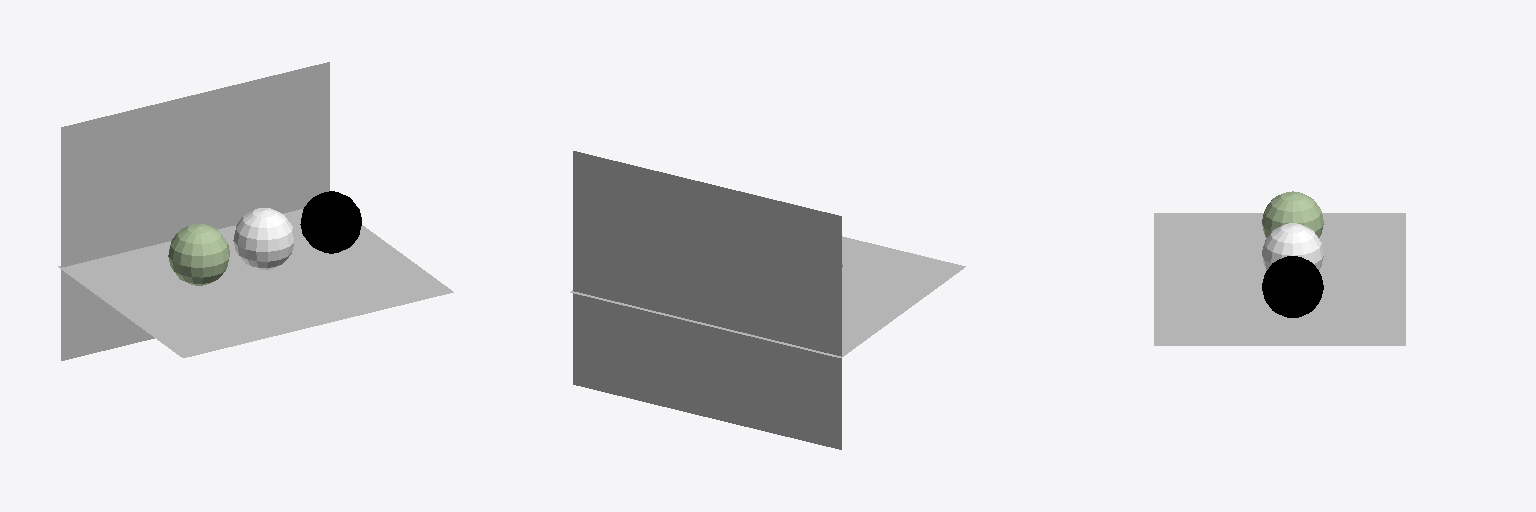
Rendered from multi-balls.obj.
The picture shows the model from 3 angles: view 1: azimuth 30°, elevation 25°; view 2: azimuth 150°, elevation 25°; view 3: azimuth 270°, elevation 25°; orthographic projection.
Parts seen in each view (by area): view 1: Plane.2, Plane, Sphere.2, Sphere.1, Sphere; view 2: Plane.2, Plane; view 3: Plane, Sphere.2, Sphere.1, Sphere.
Part boxes in pixels (x1,y1,x2,y2): Plane.2: (61,62,329,360); Plane: (58,209,453,357); Sphere.2: (300,191,361,253); Sphere.1: (233,208,294,269); Sphere: (168,224,229,285); Plane.2: (573,151,841,449); Plane: (570,236,965,357); Plane: (1154,213,1405,345); Sphere.2: (1262,256,1323,317); Sphere.1: (1262,223,1323,269); Sphere: (1262,191,1323,237).
Size of the model in its own units: 3.27 by 2.7 by 2.62.